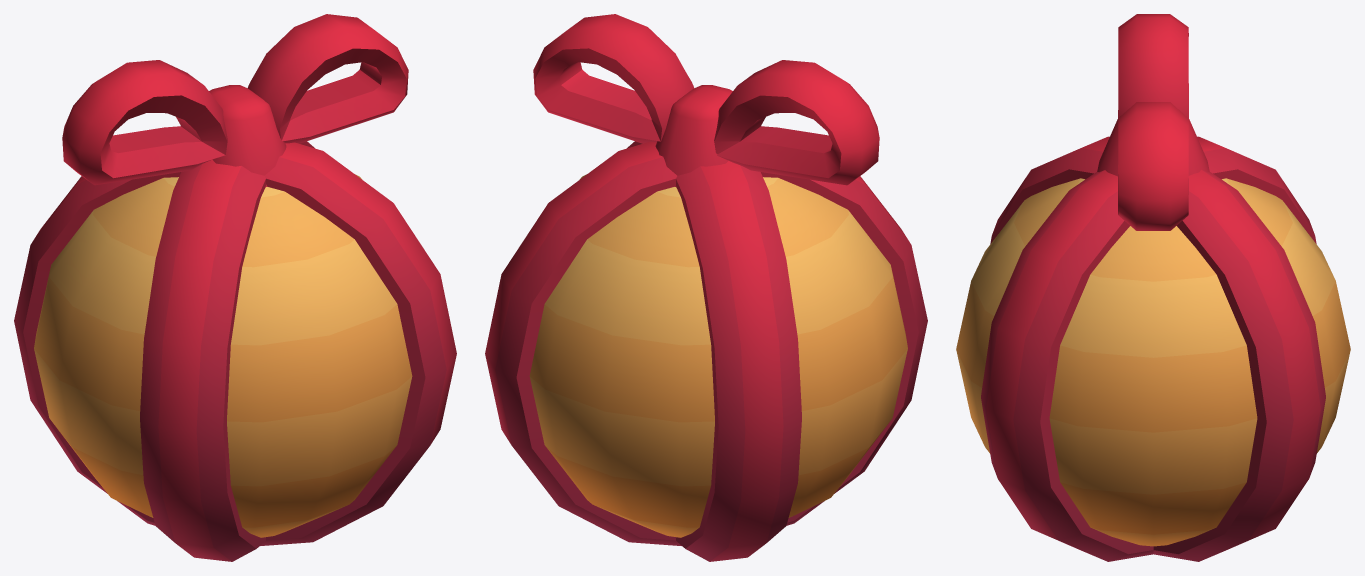
Rendered from present_sphere_A_yellow.glb.
3 views of the same model, side by side, from view 1: azimuth 30°, elevation 25°; view 2: azimuth 150°, elevation 25°; view 3: azimuth 270°, elevation 25° (orthographic). The views are drawn at different scales.
Visible parts, largest first — view 1: present_sphere_A_yellow; view 2: present_sphere_A_yellow; view 3: present_sphere_A_yellow.
Part boxes in pixels (<box>): present_sphere_A_yellow: <box>14,14,456,561</box>; present_sphere_A_yellow: <box>485,14,927,561</box>; present_sphere_A_yellow: <box>956,14,1350,561</box>.
Bounding box in the file's own units: 0.5576 × 0.7501 × 0.5576.
Materials: 1 (1 with a texture image).
